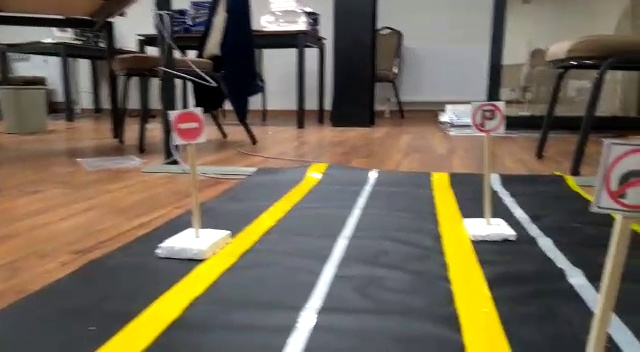girisi_olmayan_yol: (172, 106, 207, 143)
park_yapilmaz: (472, 102, 506, 137)
saga_donulmez: (599, 141, 640, 212)
